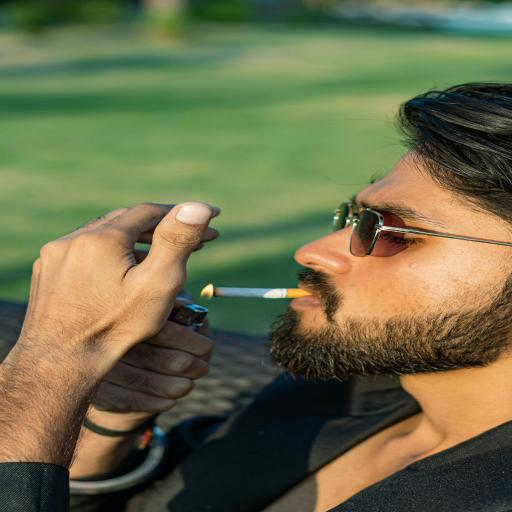terdeteksi merokok: (162, 173, 402, 374)
